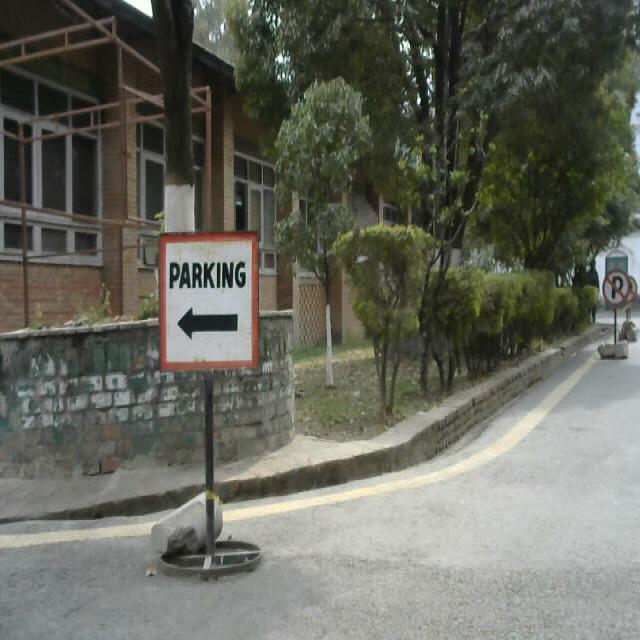NoParking: (600, 259, 636, 369)
Parking: (154, 225, 260, 578)
Road: (0, 410, 640, 640)
trees: (226, 1, 640, 225), (336, 230, 430, 424), (478, 268, 576, 376), (425, 269, 481, 399)
